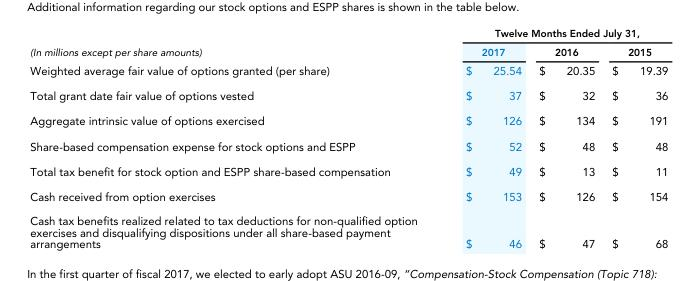table: (29, 28, 667, 249)
table column: (29, 28, 440, 249), (440, 28, 529, 249), (529, 28, 602, 249), (602, 28, 667, 249)
table column header: (29, 28, 667, 61)
table row: (29, 209, 667, 249), (29, 108, 667, 134), (29, 83, 667, 108), (29, 134, 667, 159), (29, 159, 667, 184), (29, 184, 667, 209), (29, 61, 667, 83), (29, 43, 667, 61), (29, 28, 667, 43)
table spanning cell: (29, 28, 440, 61), (440, 28, 667, 43)
